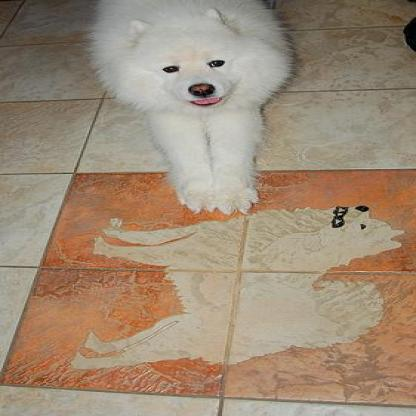Samoyed: (85, 0, 293, 210)
